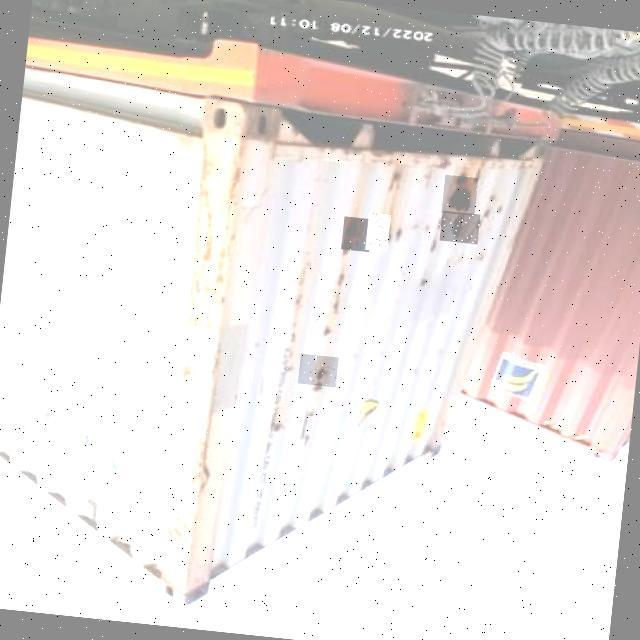Rust: (441, 175, 478, 216), (298, 353, 339, 387), (439, 210, 480, 244), (341, 216, 372, 252), (365, 213, 391, 252)
